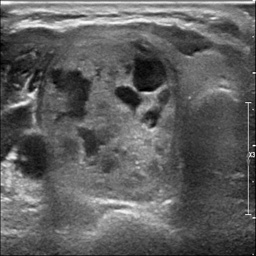mass: (45, 40, 176, 196)
